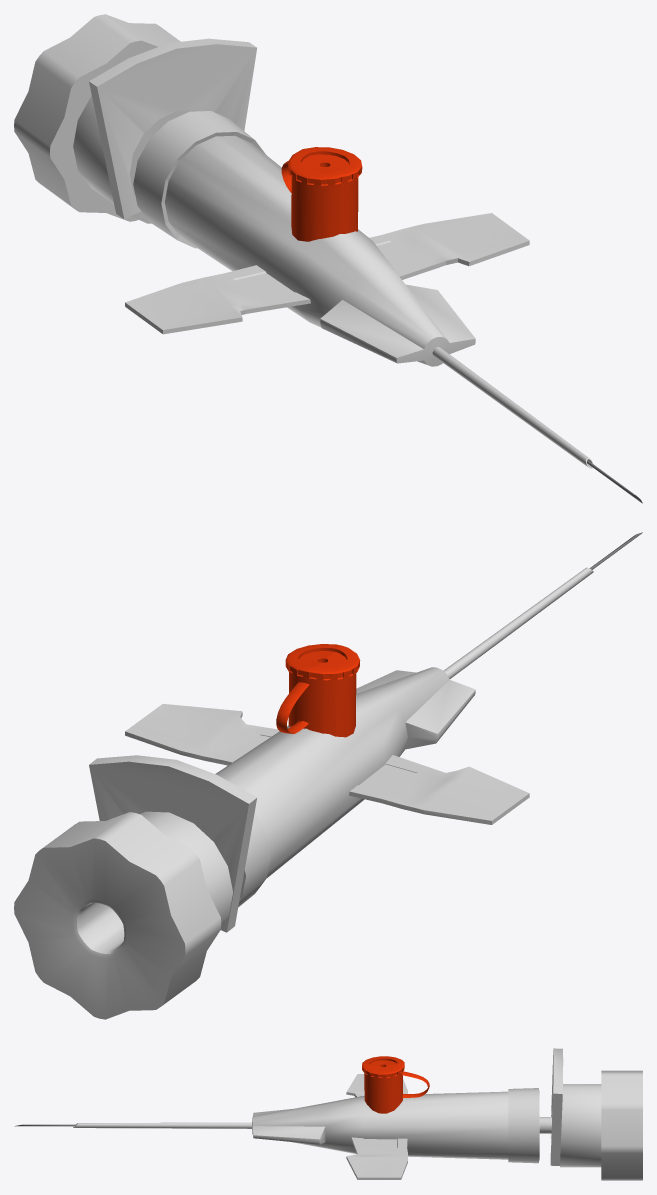
Rendered from SM_AgujaIntramuscular.fbx.
The picture shows the model from 3 angles, top to bottom: view 1: azimuth 30°, elevation 25°; view 2: azimuth 150°, elevation 25°; view 3: azimuth 270°, elevation 25°; orthographic projection. The views are drawn at different scales.
Visible parts, largest first — view 1: object_4, object_4.002, object_0; view 2: object_4.002, object_4, object_0; view 3: object_4, object_4.002, object_0.
Part boxes in pixels (box(x1,y1,x2,y2)): object_4: box(125, 111, 593, 468); object_4.002: box(14, 14, 642, 503); object_0: box(281, 147, 362, 241); object_4.002: box(14, 532, 642, 1019); object_4: box(125, 567, 593, 906); object_0: box(276, 644, 360, 737); object_4: box(73, 1074, 539, 1179); object_4.002: box(14, 1048, 642, 1180); object_0: box(362, 1056, 429, 1113).
Size of the model in its own units: 4.08 by 2.15 by 10.46.
